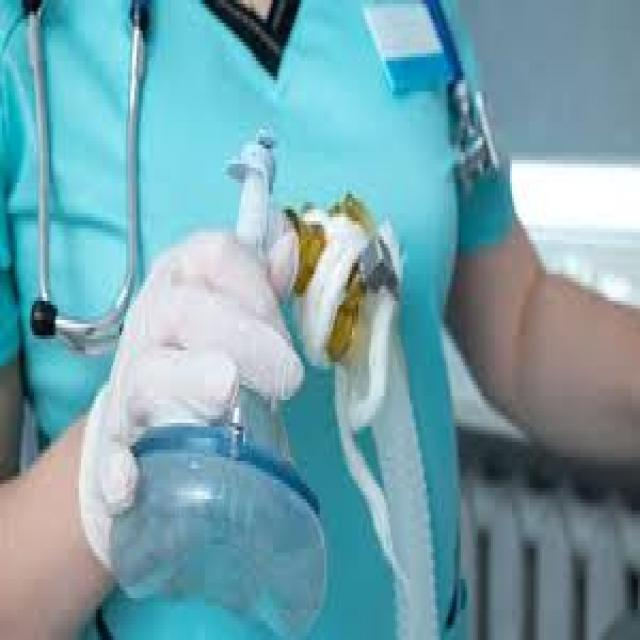oxygen_mask: (124, 422, 365, 640)
